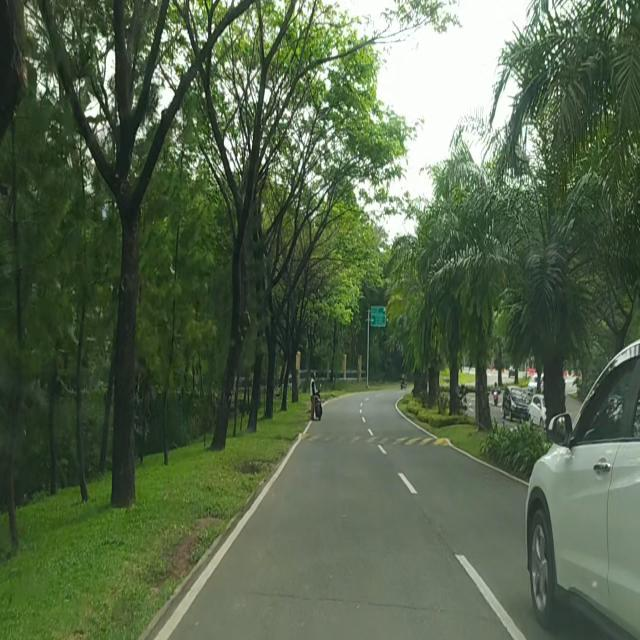Sewer Cover: (242, 582, 464, 614)
